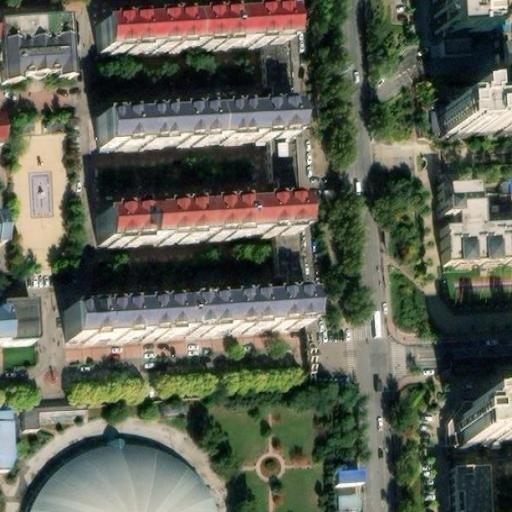building: (21, 442, 211, 512), (57, 293, 295, 341), (91, 199, 289, 244), (87, 106, 284, 150), (89, 11, 278, 54), (0, 22, 70, 92), (437, 217, 512, 280), (440, 111, 512, 153), (13, 397, 88, 432), (255, 43, 282, 107), (266, 233, 293, 295), (261, 138, 287, 201), (332, 464, 366, 511), (446, 480, 483, 512), (0, 429, 9, 479), (0, 110, 12, 142)
